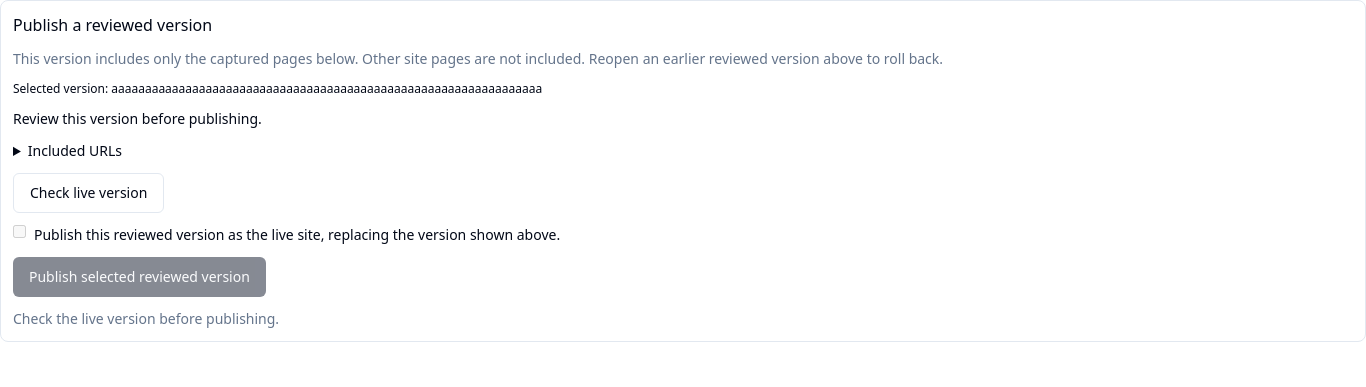
guarded publication panel › rejects inconsistent state and never enables an unreviewed target
The image size is (1366, 387).
Click the button "Check live version" at x=89, y=193, box [13,173,164,213]
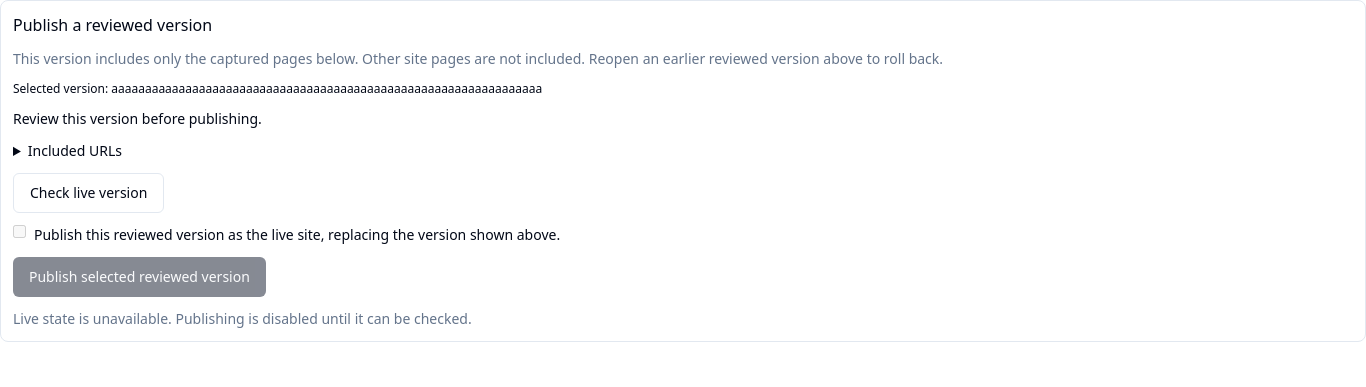
Expected: the button "Publish selected reviewed version" is disabled, [13,257,266,297]
Expected: the text "Live state is unavailable. Publishing is disabled until it can be checked." is shown, [13,309,472,328]
Click the button "Check live version" at x=89, y=193, box [13,173,164,213]
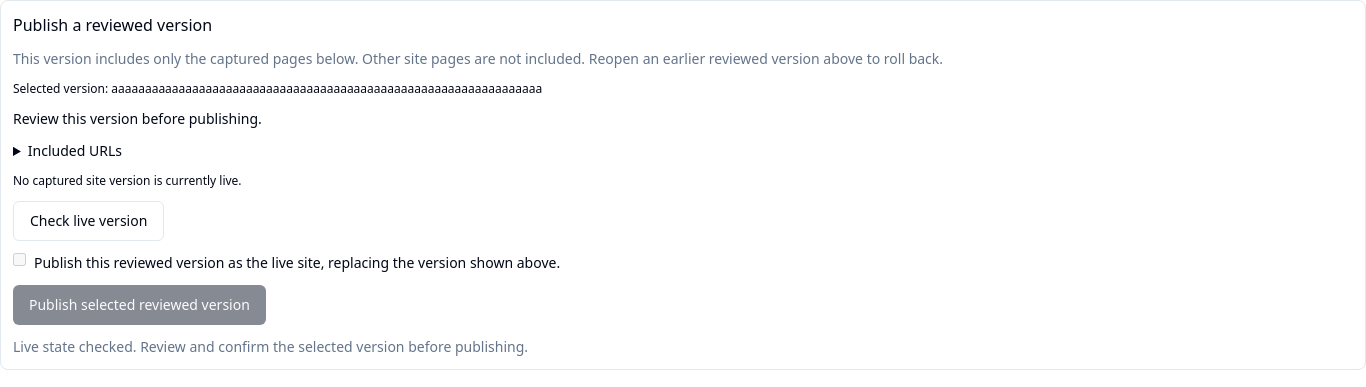
Expected: the checkbox named "Confirm selected version replaces live site" is disabled, [13,253,26,266]
Expected: the text "Live state checked. Review and confirm the selected version before publishing." is shown, [13,337,528,356]
